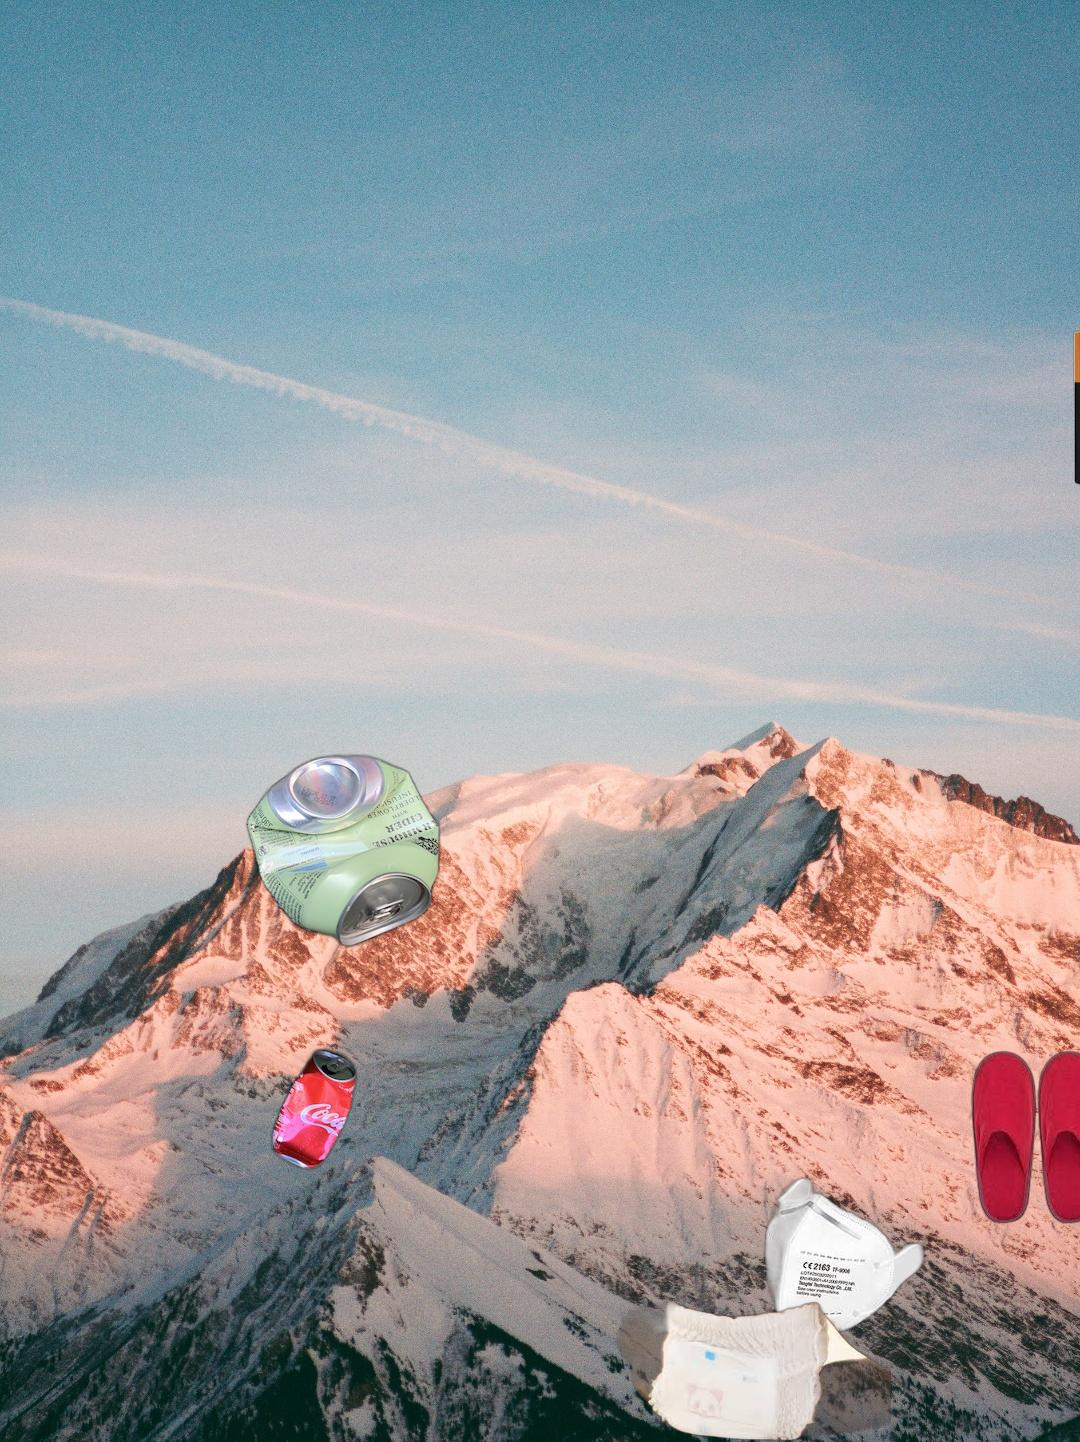battery: (1071, 324, 1080, 488)
metal-cans: (76, 749, 588, 1071), (268, 1043, 361, 1177)
shoes: (968, 1048, 1080, 1226)
trash: (611, 1271, 891, 1442), (762, 1173, 926, 1339)
